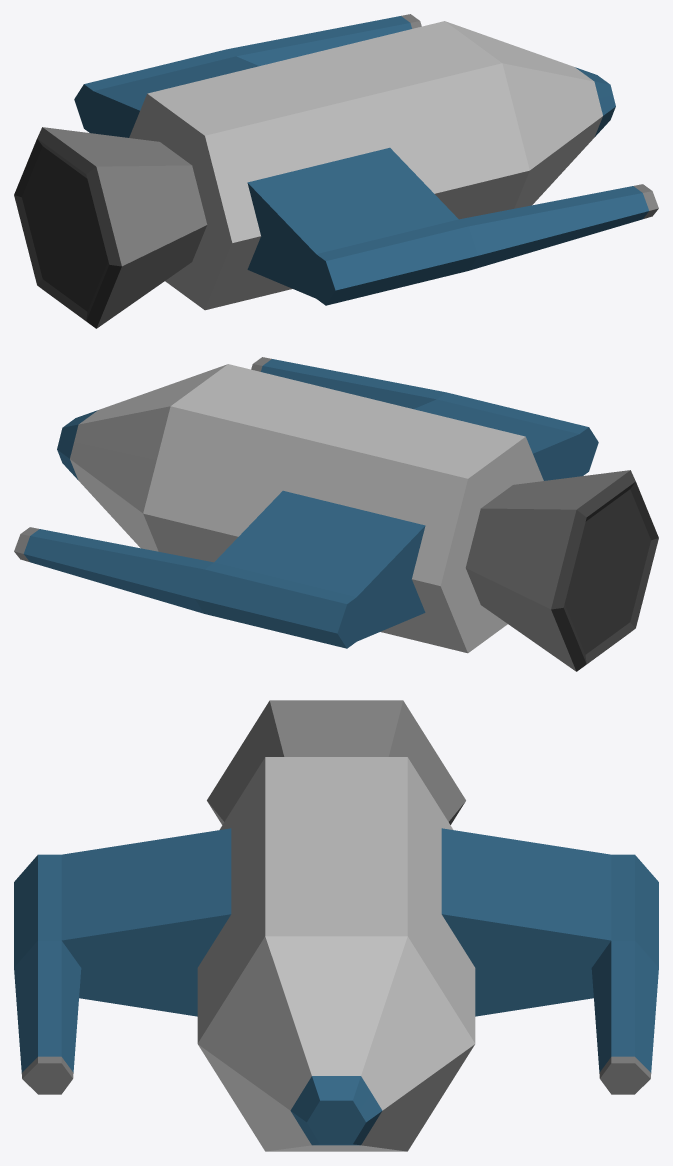
Rendered from spaceship_lol.fbx.
3 views of the same model, one above another, from view 1: azimuth 30°, elevation 25°; view 2: azimuth 150°, elevation 25°; view 3: azimuth 270°, elevation 25° (orthographic). The views are drawn at different scales.
Parts seen in each view (by area): view 1: hex_ship; view 2: hex_ship; view 3: hex_ship.
Part boxes in pixels (bbox=[...]): hex_ship: bbox=[14, 14, 658, 328]; hex_ship: bbox=[14, 357, 658, 671]; hex_ship: bbox=[14, 700, 658, 1151].
Bounding box in the file's own units: 100 × 30.91 × 83.87.
